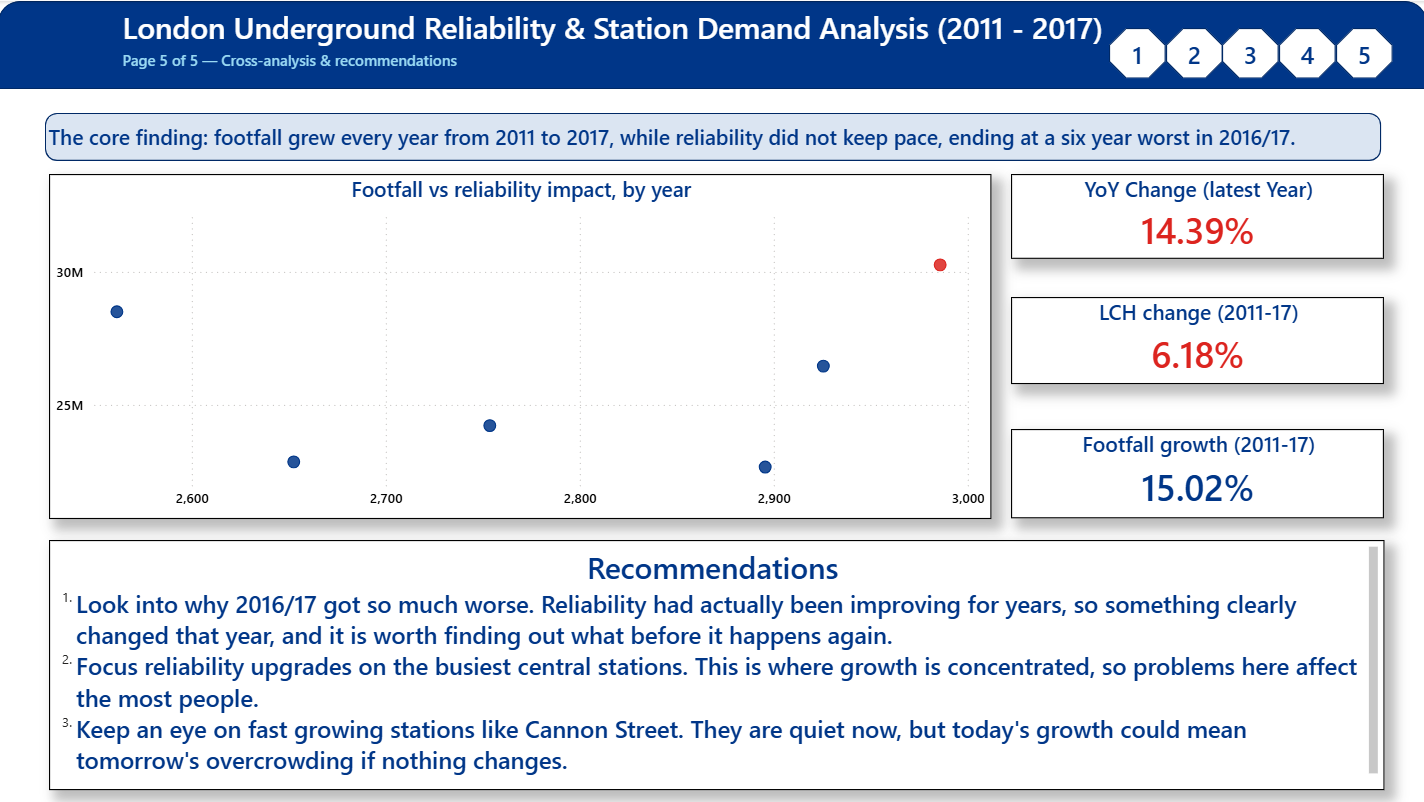

The dashboard page shown, as its layout file describes it:
{"tool":"powerbi","page":{"name":"Cross-analysis","canvas":[1280,720],"ordinal":4},"visuals":[{"type":"group","id":"g1","title":"Group 1","box":[0,0,1279.7,78.8],"z":0},{"type":"shape","box":[994.9,24.2,50.8,45.3],"z":0,"group":"g3"},{"type":"shape","box":[1045.7,24.2,50.8,45.3],"z":1000,"group":"g3"},{"type":"shape","box":[41.7,100.1,1196.6,42.9],"z":1000},{"type":"shape","box":[1096.5,24.2,50.8,45.3],"z":2000,"group":"g3"},{"type":"card","title":"YoY Change (latest Year)","fields":{"Values":["DateTable.YoY Change (Latest Year)"]},"box":[907.3,154.6,334.4,75.5],"z":2000},{"type":"shape","box":[1147.2,24.2,50.8,45.3],"z":3000,"group":"g3"},{"type":"card","title":"Footfall growth (2011-17)","fields":{"Values":["london_clean_lost_customer_hours.Footfall Growth 2011-17"]},"box":[907.3,383.5,334.4,80.3],"z":3000},{"type":"shape","box":[1198,24.2,50.8,45.3],"z":4000,"group":"g3"},{"type":"card","title":"LCH change (2011-17)","fields":{"Values":["london_clean_lost_customer_hours.LCH Change 2011-17"]},"box":[907.3,264.9,334.4,77.9],"z":4000},{"type":"scatterChart","title":"Footfall vs reliability impact, by year","fields":{"Y":["lch_vs_footfall.total_lch"],"X":["lch_vs_footfall.total_footfall"],"Series":["lch_vs_footfall.financial_year"]},"box":[45.5,154.6,843.7,309.2],"z":5000},{"type":"shape","box":[0,0,1279.7,78.8],"z":6000,"group":"g1"},{"type":"textbox","box":[45.5,483,1196.1,224.1],"z":6000},{"type":"textbox","box":[106.6,0,917,48.4],"z":7000,"group":"g1"},{"type":"group","id":"g2","title":"Group 1","box":[97,265,12.6,82.4],"z":7000},{"type":"textbox","box":[97,265,12.5,53.7],"z":7000,"group":"g2"},{"type":"group","id":"g3","title":"Group 3","box":[994.9,24.2,254.3,45.7],"z":8000},{"type":"textbox","box":[106.5,39.4,465.5,39.4],"z":8000,"group":"g1"},{"type":"textbox","box":[97,308,12.5,39.4],"z":8000,"group":"g2"}]}

Visuals, with their boxes in screenshot pixels (x1, y1, x2, y2), scaled from the page's 1280x720 canvas onto the 1424x802 screenshot:
"Group 1" group: left=0, top=0, right=1423, bottom=88
shape: left=1107, top=27, right=1163, bottom=77
shape: left=1163, top=27, right=1220, bottom=77
shape: left=46, top=112, right=1378, bottom=159
shape: left=1220, top=27, right=1276, bottom=77
"YoY Change (latest Year)" card: left=1009, top=172, right=1381, bottom=256
shape: left=1276, top=27, right=1333, bottom=77
"Footfall growth (2011-17)" card: left=1009, top=427, right=1381, bottom=517
shape: left=1333, top=27, right=1389, bottom=77
"LCH change (2011-17)" card: left=1009, top=295, right=1381, bottom=382
"Footfall vs reliability impact, by year" scatterChart: left=51, top=172, right=989, bottom=517
shape: left=0, top=0, right=1423, bottom=88
textbox: left=51, top=538, right=1381, bottom=788
textbox: left=119, top=0, right=1139, bottom=54
"Group 1" group: left=108, top=295, right=122, bottom=387
textbox: left=108, top=295, right=122, bottom=355
"Group 3" group: left=1107, top=27, right=1390, bottom=78
textbox: left=118, top=44, right=636, bottom=88
textbox: left=108, top=343, right=122, bottom=387
